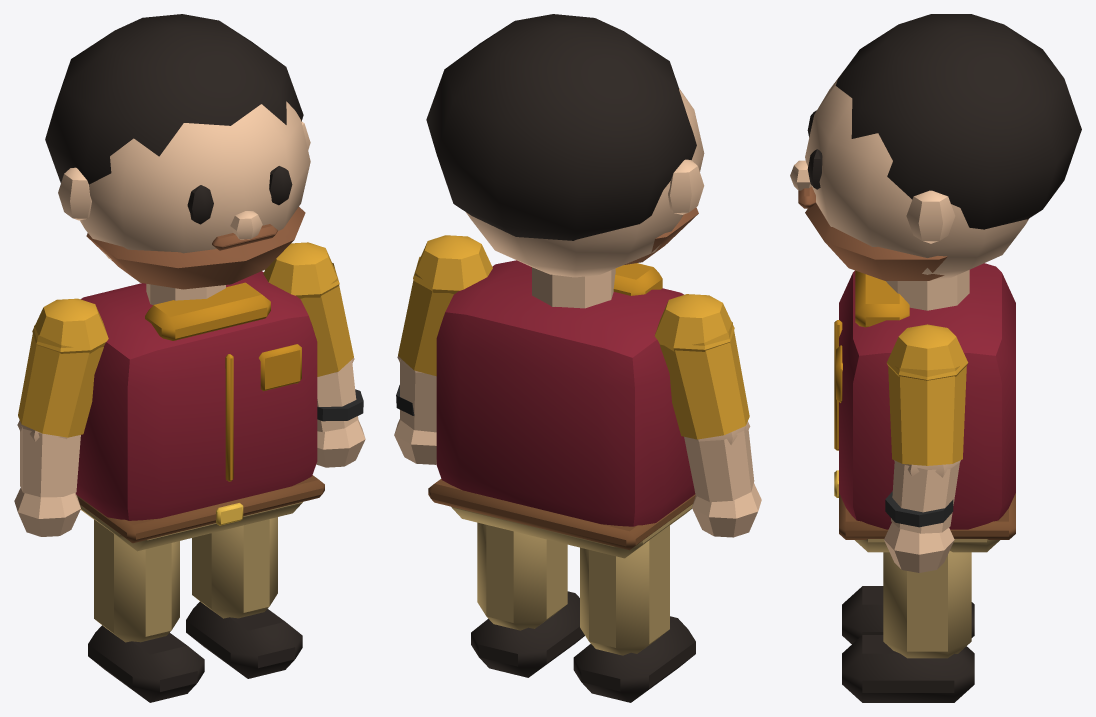
The model's file is lakhan.glb.
3 renders of one model, left to right at view 1: azimuth 30°, elevation 25°; view 2: azimuth 150°, elevation 25°; view 3: azimuth 270°, elevation 25°, orthographic. The views are drawn at different scales.
Visible parts, largest first — view 1: head, body, arm_r, leg_r, leg_l, arm_l; view 2: body, head, arm_r, leg_r, leg_l, arm_l; view 3: head, body, arm_l, leg_l, leg_r.
Boxes of the visible parts, left/top/right/bottom form: head: left=45, top=14, right=310, bottom=289; body: left=76, top=271, right=324, bottom=551; arm_r: left=14, top=298, right=108, bottom=536; leg_r: left=88, top=519, right=204, bottom=702; leg_l: left=186, top=517, right=302, bottom=678; arm_l: left=263, top=242, right=365, bottom=467; body: left=428, top=260, right=695, bottom=558; head: left=426, top=14, right=704, bottom=277; arm_r: left=654, top=294, right=761, bottom=537; leg_r: left=573, top=525, right=695, bottom=702; leg_l: left=471, top=522, right=584, bottom=677; arm_l: left=394, top=235, right=492, bottom=464; head: left=790, top=14, right=1081, bottom=280; body: left=834, top=263, right=1015, bottom=552; arm_l: left=884, top=324, right=968, bottom=572; leg_l: left=842, top=551, right=974, bottom=702; leg_r: left=842, top=586, right=974, bottom=643.
Size of the model in its own units: 0.61 by 1.06 by 0.4376.
Materials: 1 (1 with a texture image).
